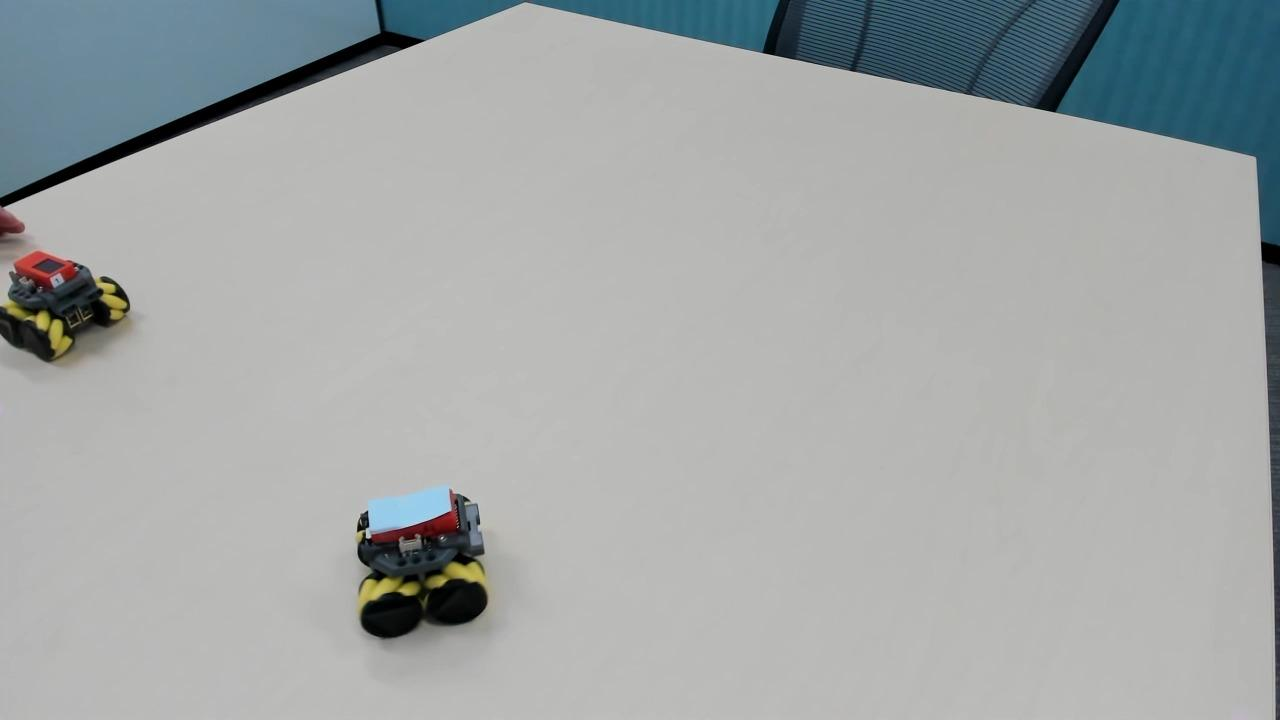B-Robot: (340, 470, 504, 662)
R-Robot: (1, 243, 166, 381)
